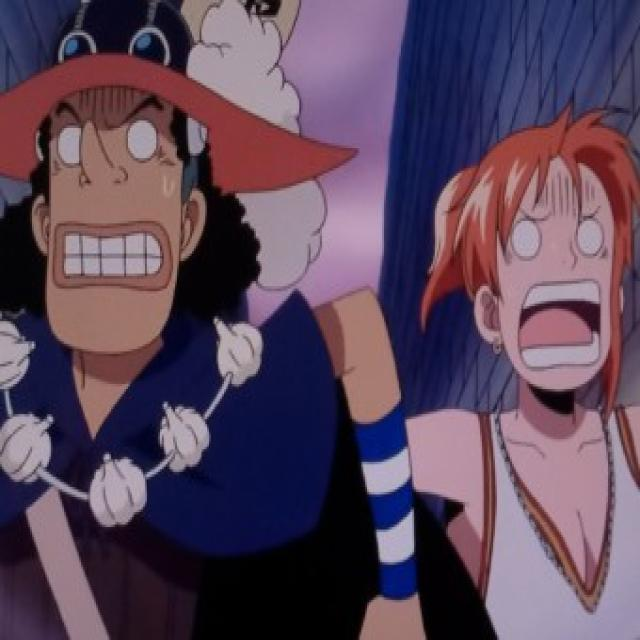Nami: (431, 100, 640, 402)
Usopp: (18, 0, 227, 366)
